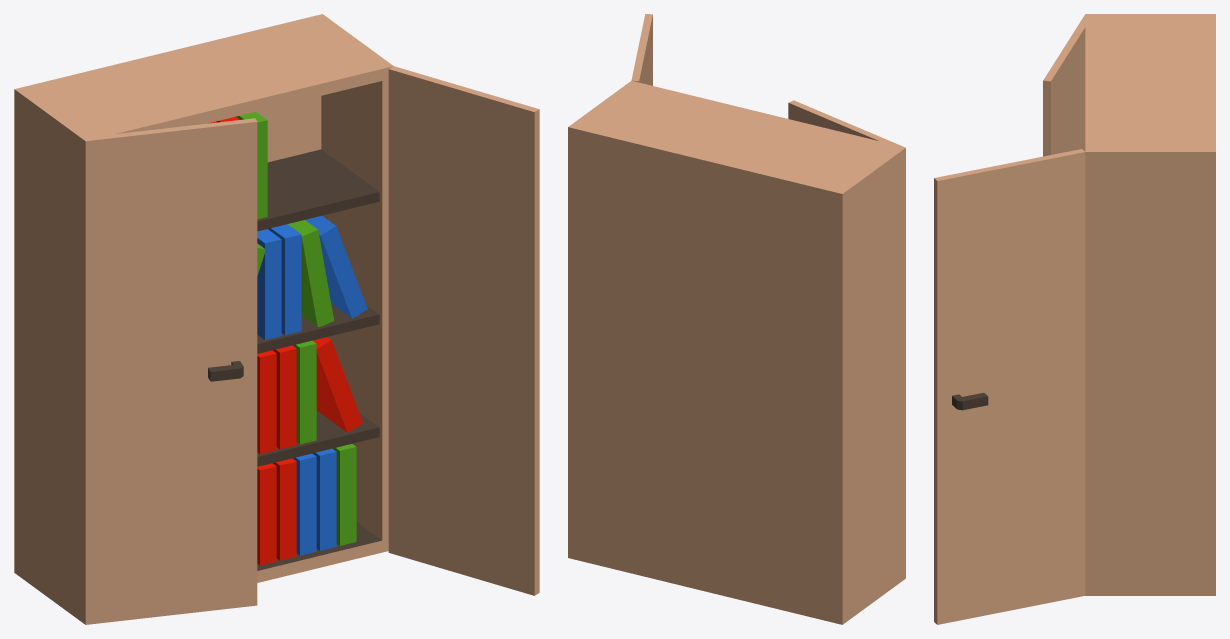
Rendered from FilingCabinetOpen.fbx.
3 renders of one model, left to right at view 1: azimuth 30°, elevation 25°; view 2: azimuth 150°, elevation 25°; view 3: azimuth 270°, elevation 25°, orthographic. The views are drawn at different scales.
Visible parts, largest first — view 1: FilingCabinet; view 2: FilingCabinet; view 3: FilingCabinet.
Part boxes in pixels (x1,y1,x2,y2): FilingCabinet: [14, 14, 539, 624]; FilingCabinet: [568, 14, 905, 624]; FilingCabinet: [934, 14, 1215, 624].
Bounding box in the file's own units: 246 × 300 × 173.
